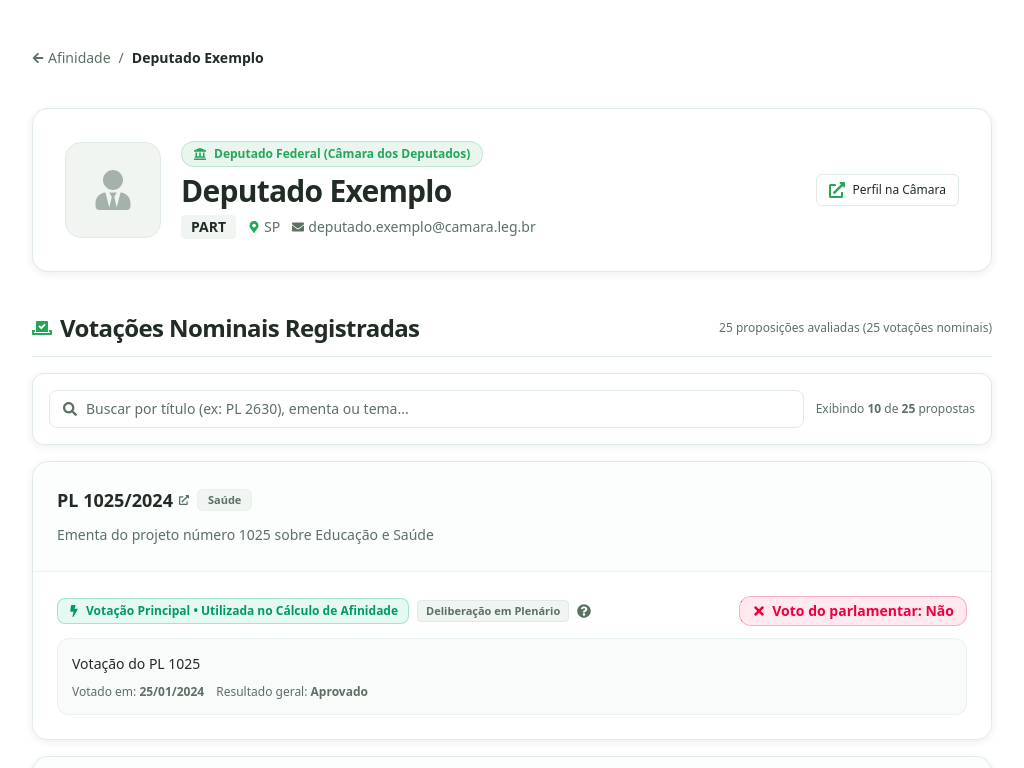
Test case: PoliticianDetailsClient - Paginação, Busca e Ordenação › filtra proposições por busca textual e reseta paginação
Type "PL 1005" into the field with placeholder "Buscar por título (ex: PL 2630), ementa ou tema..." at (426, 409), box [49, 390, 804, 428]
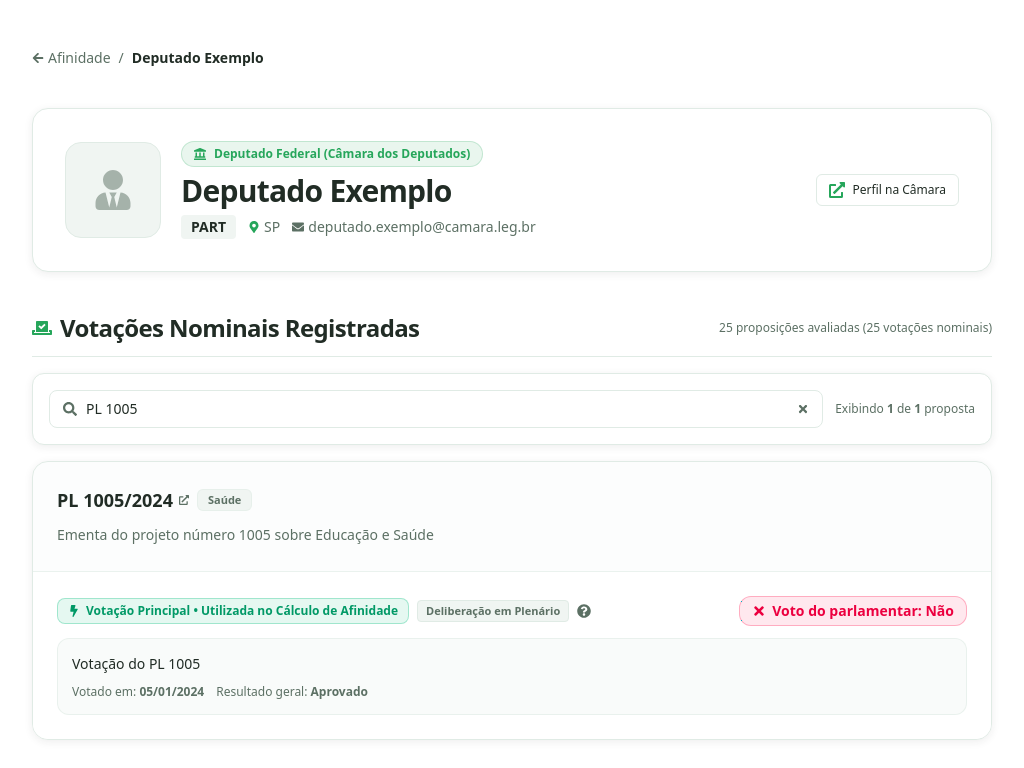
Result: the text "PL 1005/2024" is shown at [57, 486, 173, 514]
// Limpar busca
Click the button titled "Limpar busca" at (803, 409), box [793, 399, 813, 419]
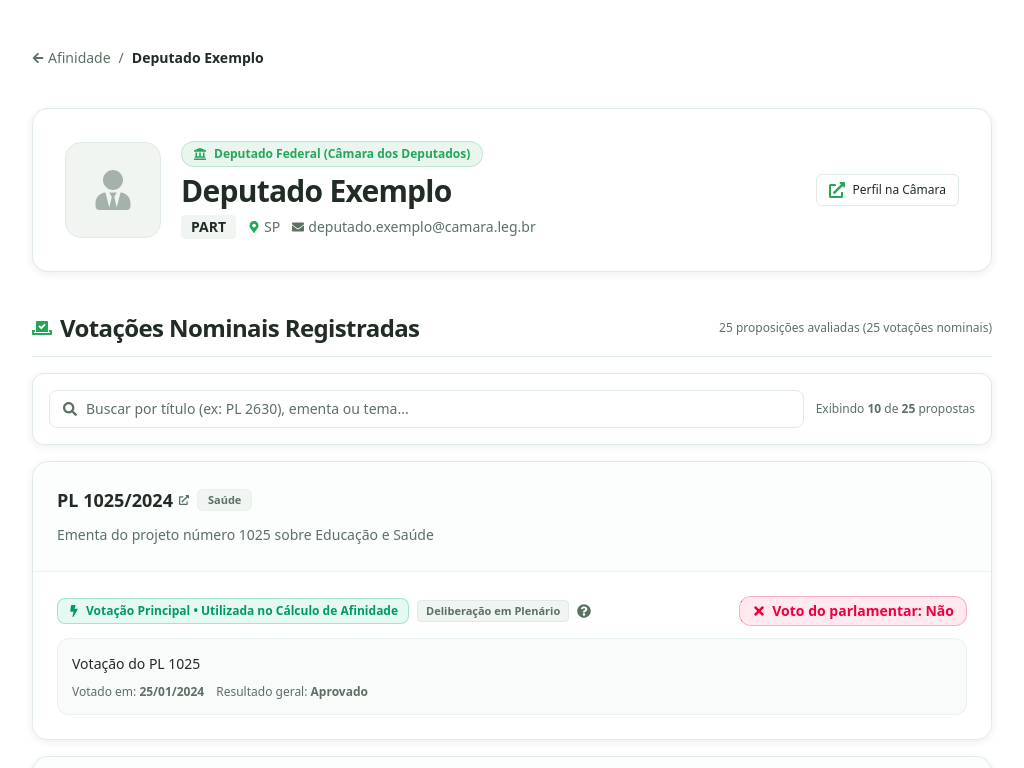
Result: the field with placeholder "Buscar por título (ex: PL 2630), ementa ou tema..." is empty at [49, 390, 804, 428]
Result: the text "PL 1025/2024" is shown at [57, 486, 173, 514]
